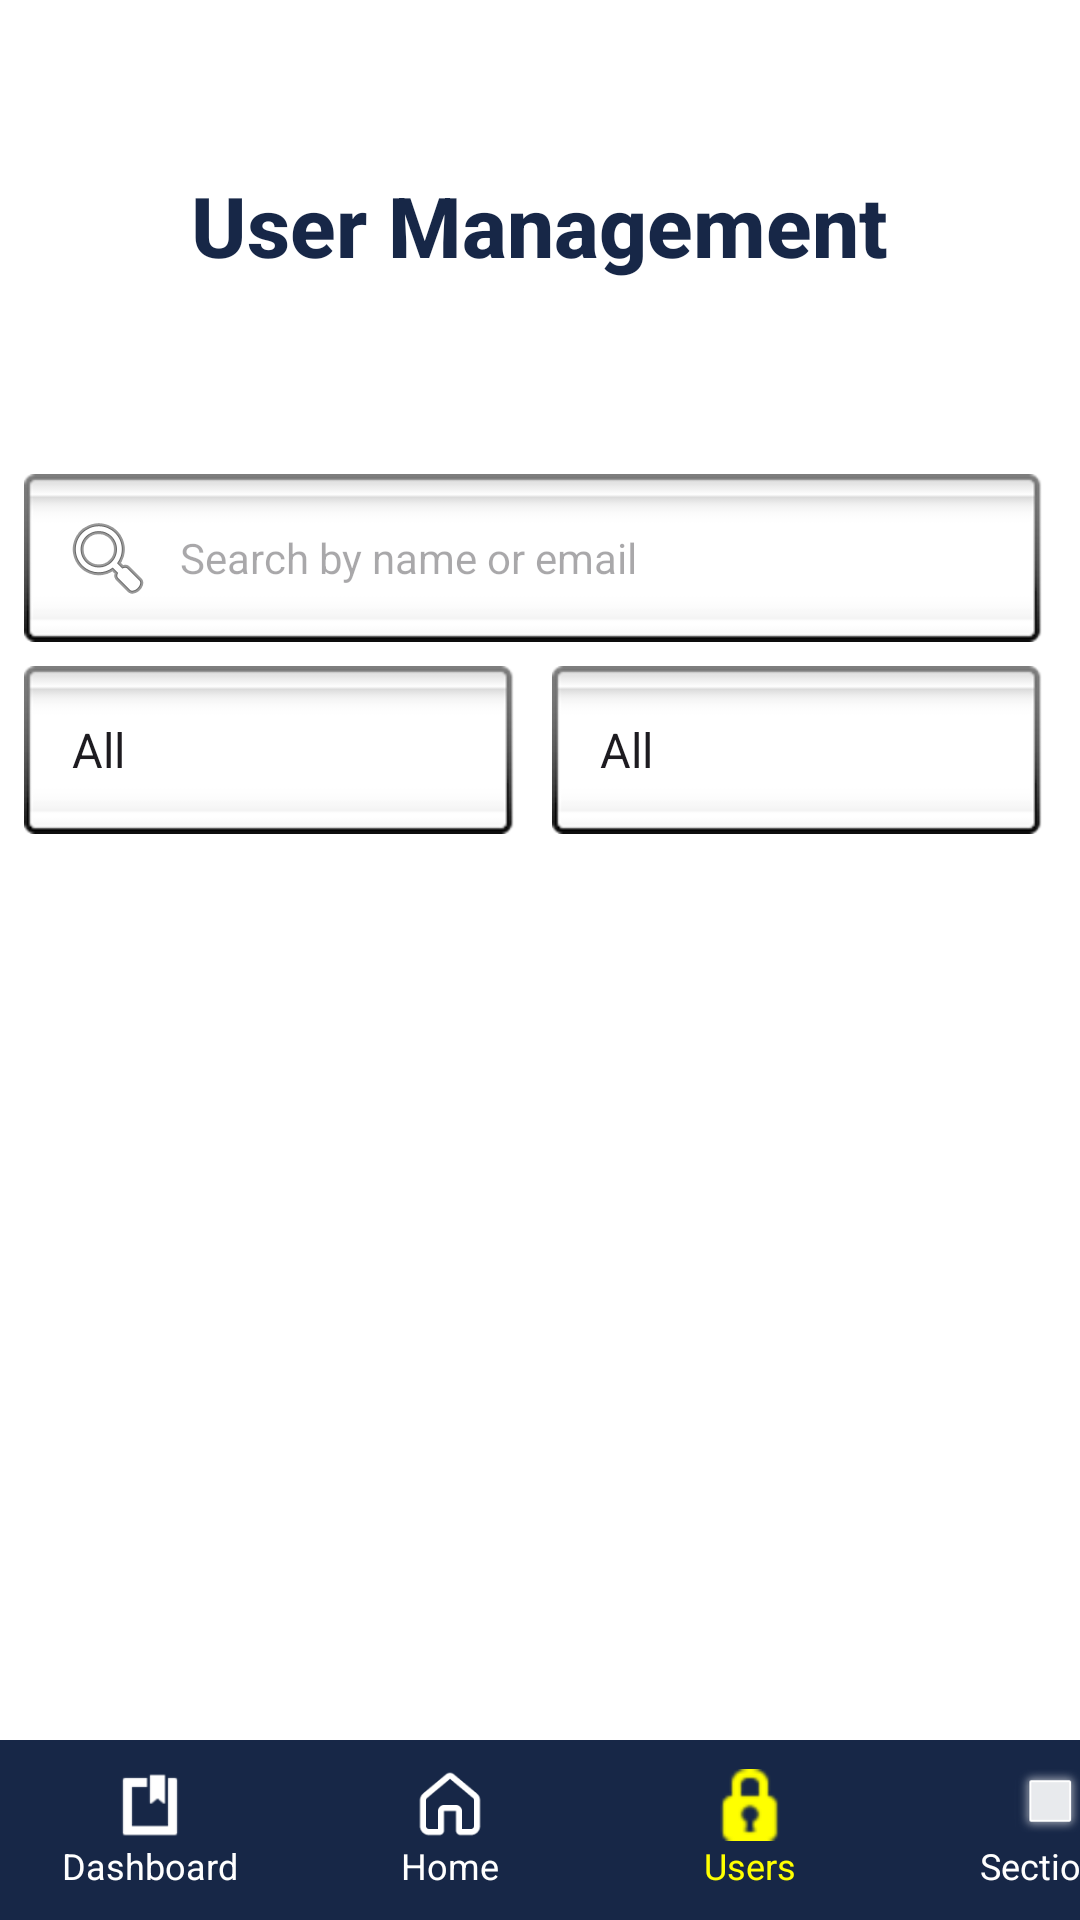

Icon bounding boxes for this 1080px x 1920px phone screenshot, format (x1, y1, x2, y2):
secure: (721, 1769, 778, 1841)
